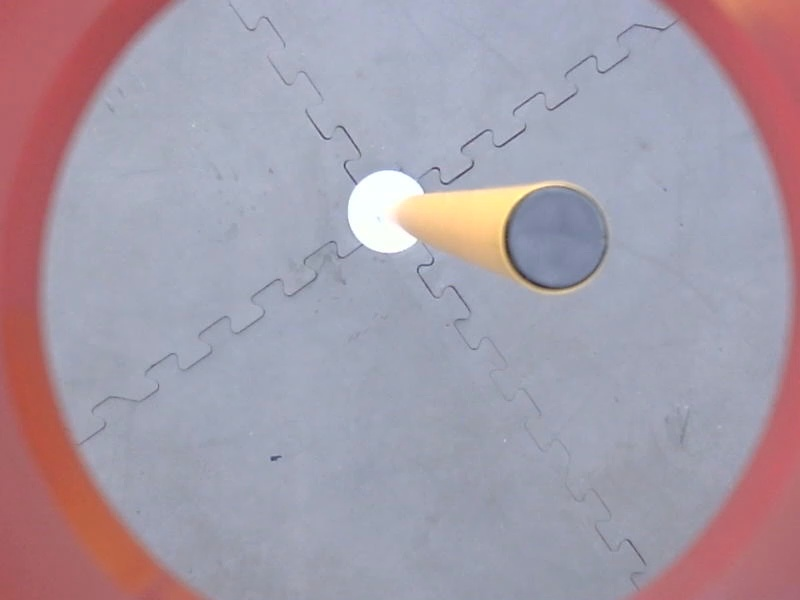tip: (495, 177, 618, 300)
